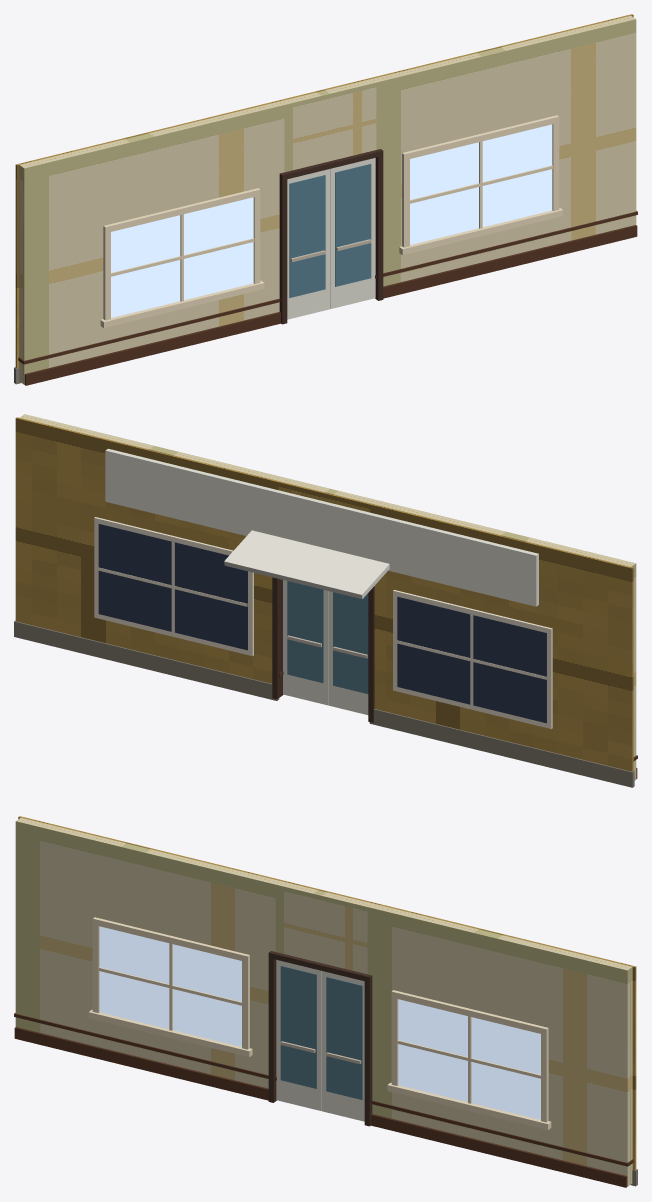
Rendered from front.glb.
The picture shows the model from 3 angles, top to bottom: view 1: azimuth 30°, elevation 25°; view 2: azimuth 150°, elevation 25°; view 3: azimuth 330°, elevation 25°; orthographic projection.
Parts seen in each view (by area): view 1: Box1, Box3, Box30, Box41, Box5, Box15, Box19, Box2, Box4, Box18, Box48, Box14 (+16 smaller); view 2: Box6, Box8, Box44, Box23, Box34, Box45, Box7, Box9, Box19, Box15, Box22, Box33 (+9 smaller); view 3: Box3, Box1, Box30, Box41, Box5, Box19, Box15, Box4, Box2, Box14, Box46, Box18 (+17 smaller).
Part boxes in pixels (x1,y1,x2,y2): Box1: (19, 101, 284, 384); Box3: (371, 15, 636, 286); Box30: (111, 197, 253, 317); Box41: (410, 124, 552, 244); Box5: (279, 79, 376, 172); Box15: (289, 175, 325, 297); Box19: (335, 164, 371, 286); Box2: (24, 312, 280, 385); Box4: (383, 225, 637, 298); Box18: (330, 158, 375, 308); Box48: (383, 215, 635, 286); Box14: (287, 169, 329, 319); Box6: (370, 503, 633, 771); Box8: (15, 417, 279, 699); Box44: (105, 448, 538, 606); Box23: (397, 596, 546, 723); Box34: (98, 524, 247, 650); Box45: (224, 530, 389, 599); Box7: (369, 709, 634, 787); Box9: (14, 620, 277, 700); Box19: (287, 581, 323, 682); Box15: (333, 592, 368, 693); Box22: (393, 590, 552, 728); Box33: (94, 517, 253, 656); Box3: (367, 903, 632, 1186); Box1: (15, 817, 280, 1086); Box30: (99, 926, 241, 1046); Box41: (398, 999, 540, 1119); Box5: (275, 881, 372, 974); Box19: (326, 977, 362, 1099); Box15: (280, 966, 316, 1088); Box4: (371, 1114, 627, 1187); Box2: (14, 1027, 268, 1100); Box14: (276, 960, 321, 1110); Box46: (16, 1018, 268, 1088); Box18: (322, 971, 364, 1121).
Bounding box in the file's own units: 10.77 × 3.64 × 1.22.
12 materials, 2 textured.
